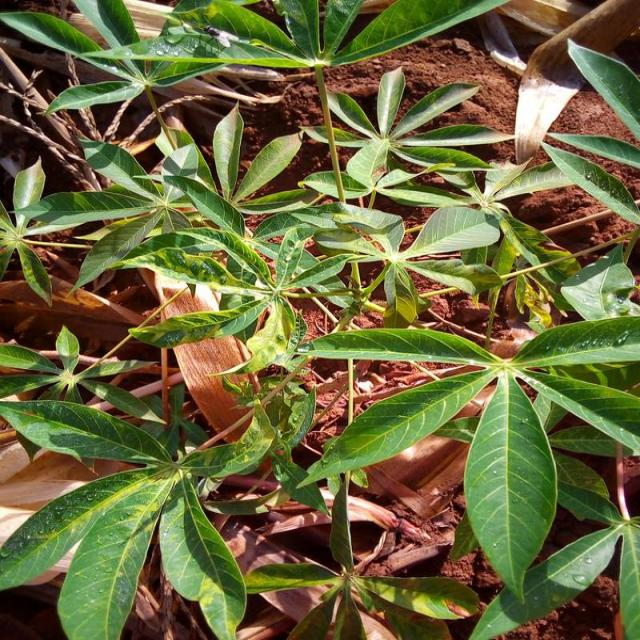cassava leaf: (0, 1, 638, 638), (462, 367, 558, 603)
